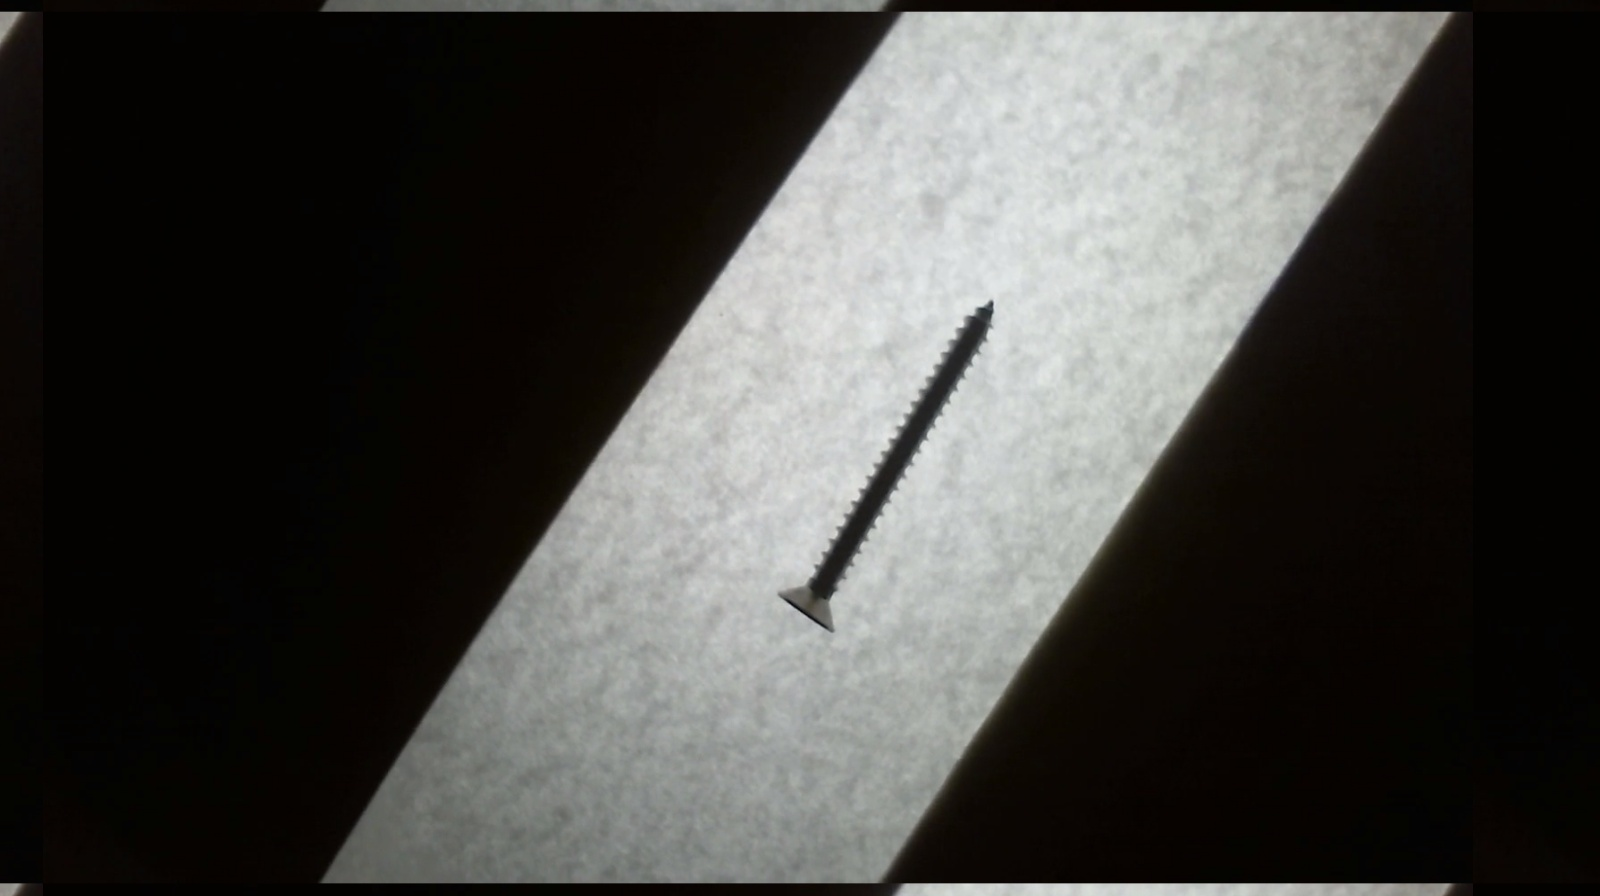S002: (747, 272, 1036, 655)
